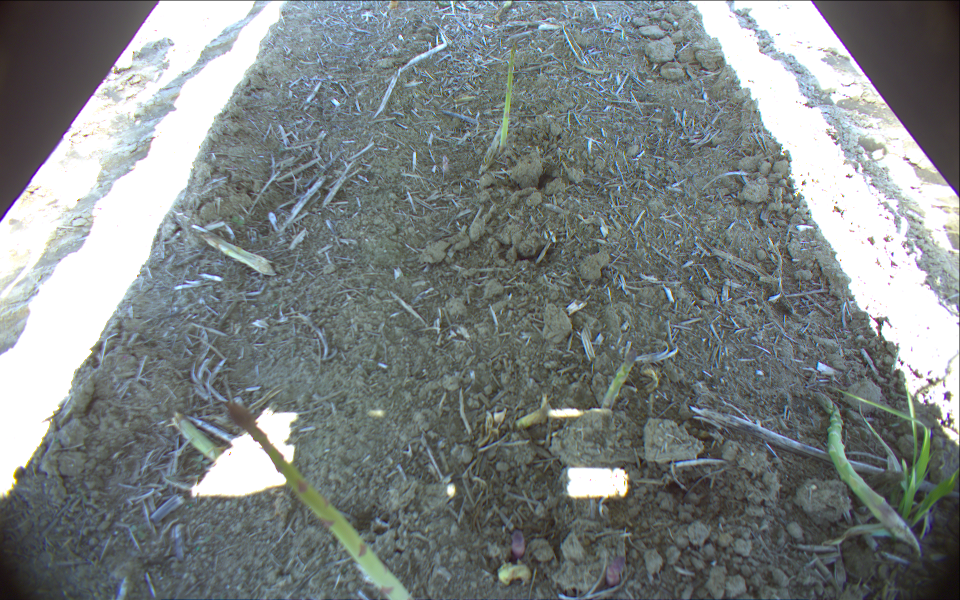aspa: (222, 398, 419, 600), (596, 348, 639, 413), (495, 43, 519, 156)
